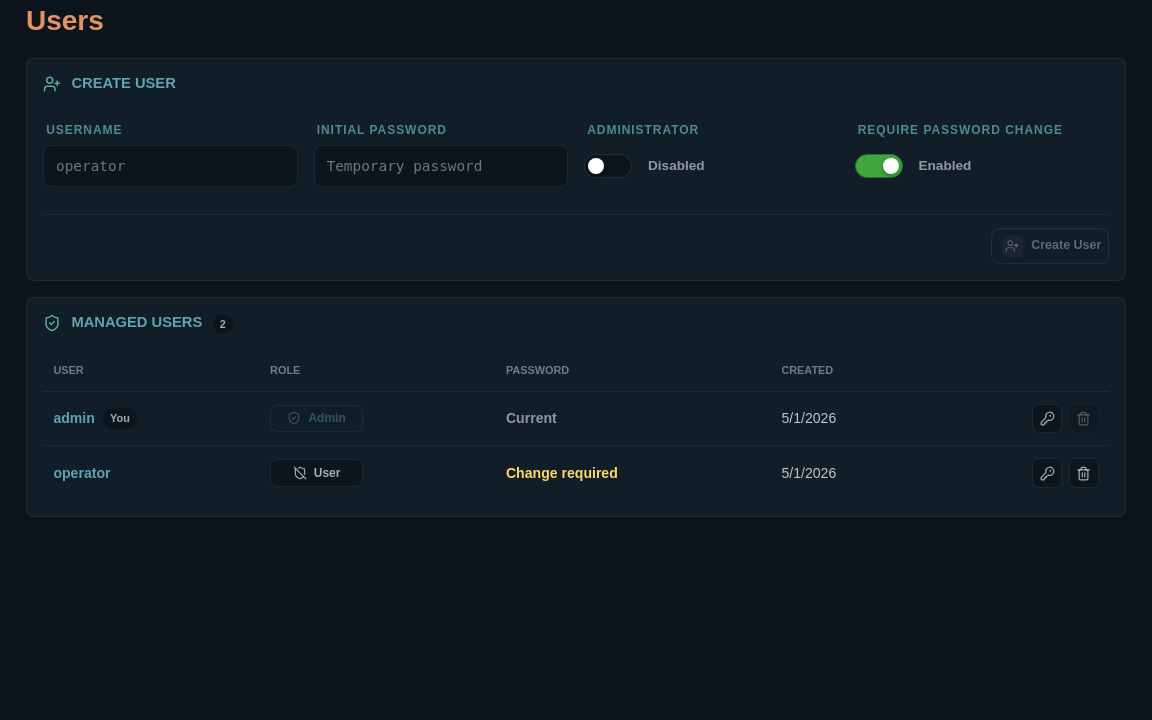
users page › renames the password field when no forced password change is required
Expected: the text "operator" is shown, [53,462,110,484]
Expected: the password field labelled "Initial Password" is shown, [326,146,555,186]
What coordinates should you click on to do the following:
click the switch labelled "Require Password Change"
I would click on:
 (960, 130)
Its box is [858,123,1063,137].
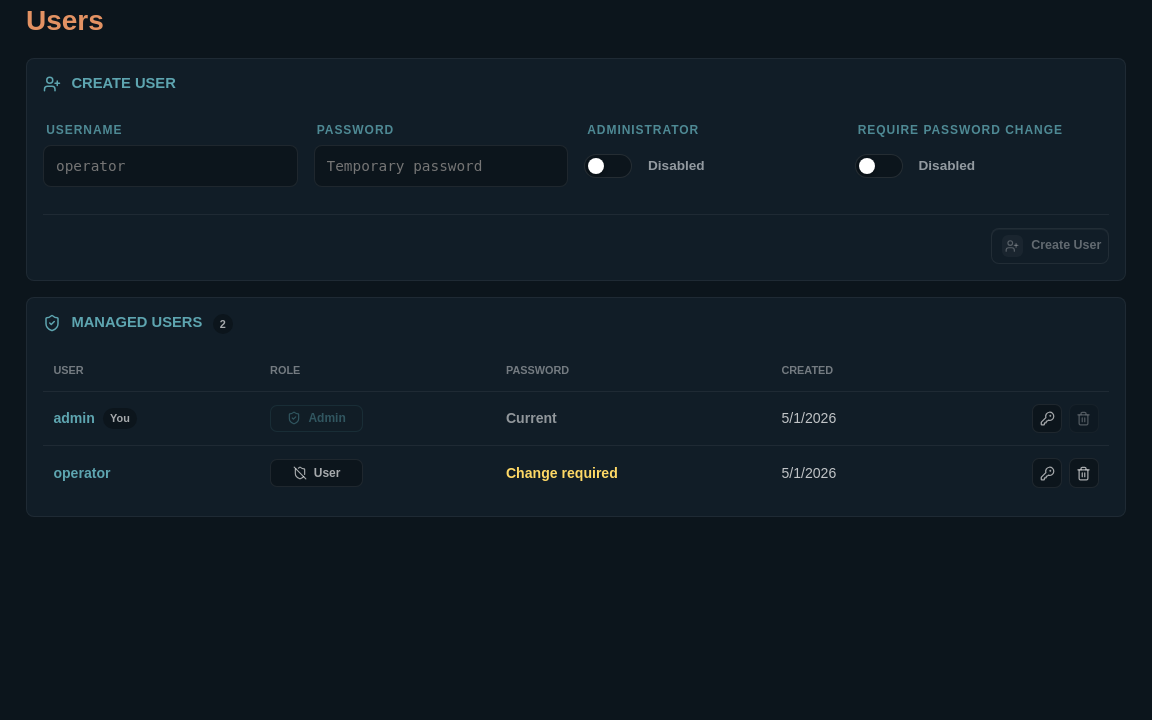
Expected: the password field labelled "Password" is shown, [326,146,555,186]
Result: the label labelled "Initial Password" is gone
